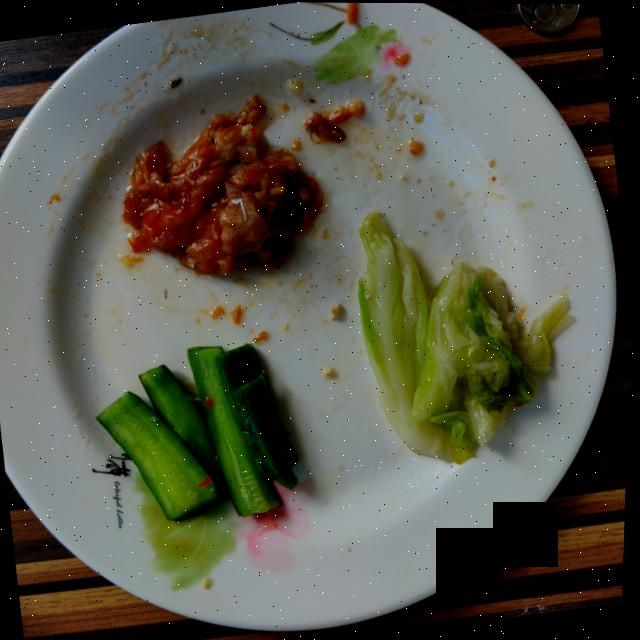Kabayaki sea bream fillet: (124, 96, 323, 274)
cabbage: (360, 211, 575, 464)
coin: (518, 3, 579, 33)
cucumber: (100, 344, 300, 520)
